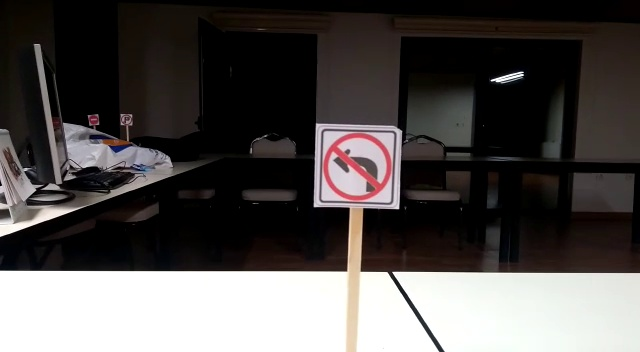sola_donulmez: (312, 122, 401, 210)
